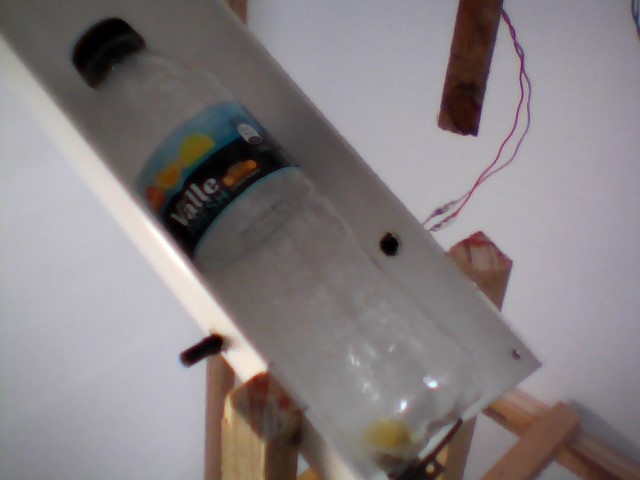plastico: (69, 14, 509, 480)
